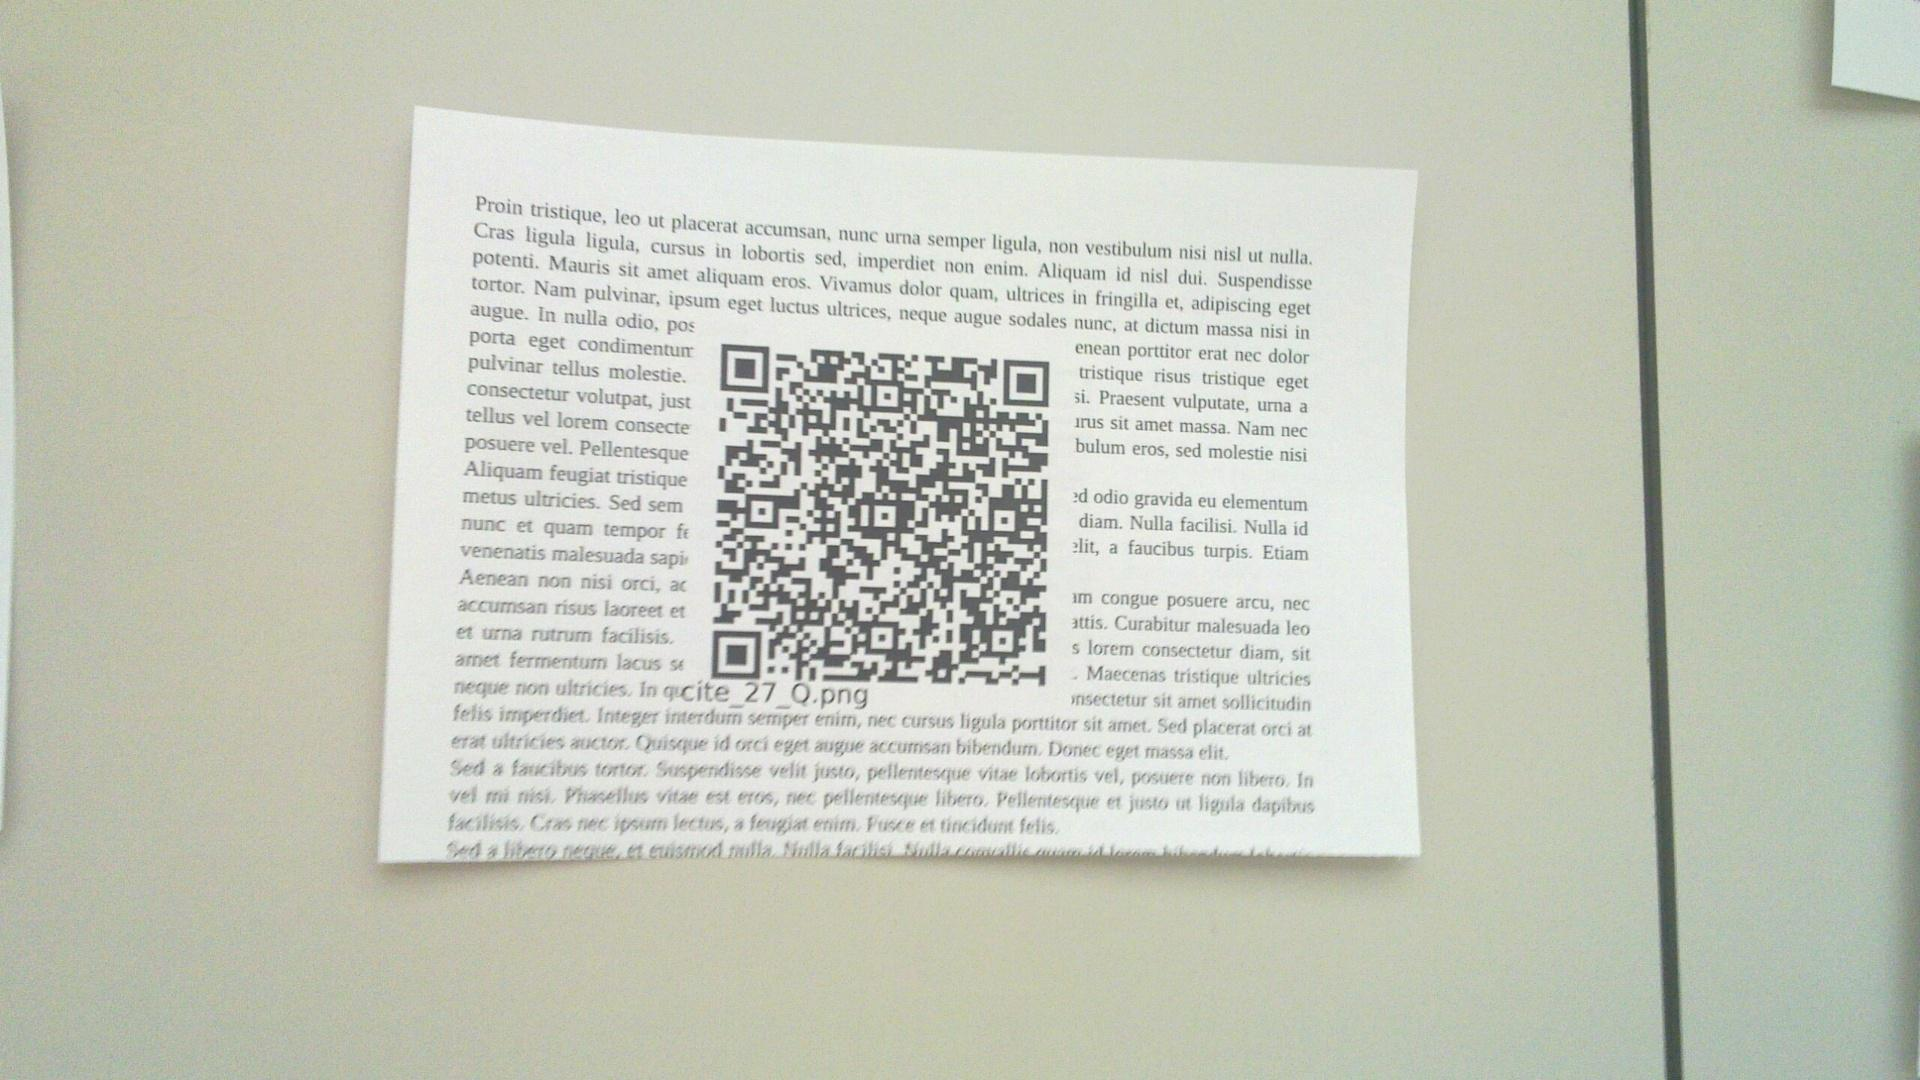Finder pattern: (703, 622, 769, 684), (716, 336, 778, 400), (1000, 356, 1054, 413)
